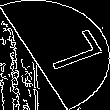L_SW: (16, 30, 94, 80)
